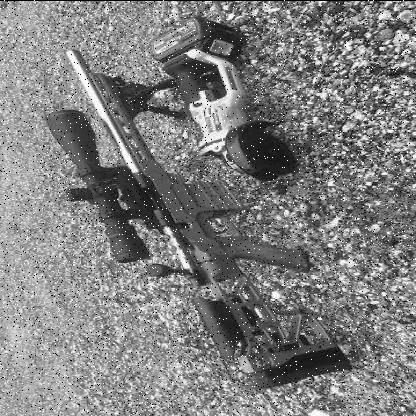rifle: (29, 44, 364, 391)
